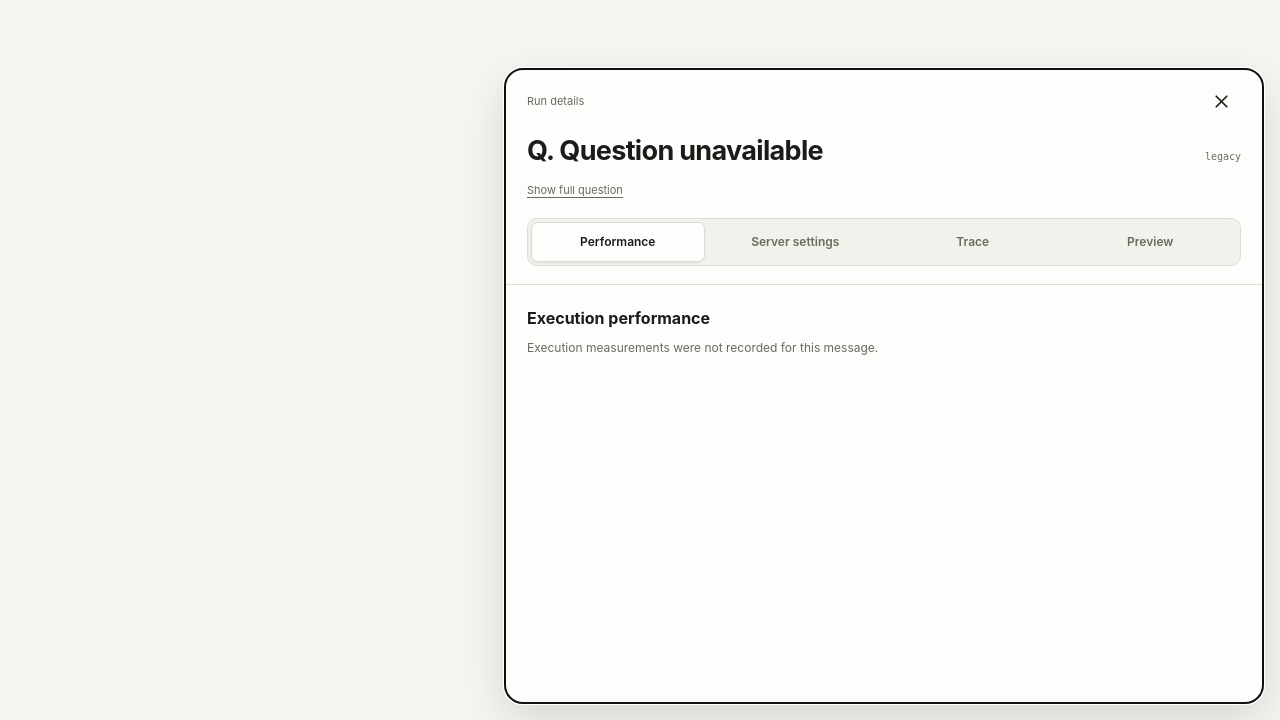
Test: Run details panel › keeps historical missing measurements, settings and traces explicit
Check: the heading "Q. Question unavailable" is shown, box [527, 134, 823, 167]
Check: the text "Execution measurements were not recorded for this message." is shown, box [527, 340, 878, 356]
Click the tab "Server settings" at (795,242), box [708, 222, 882, 262]
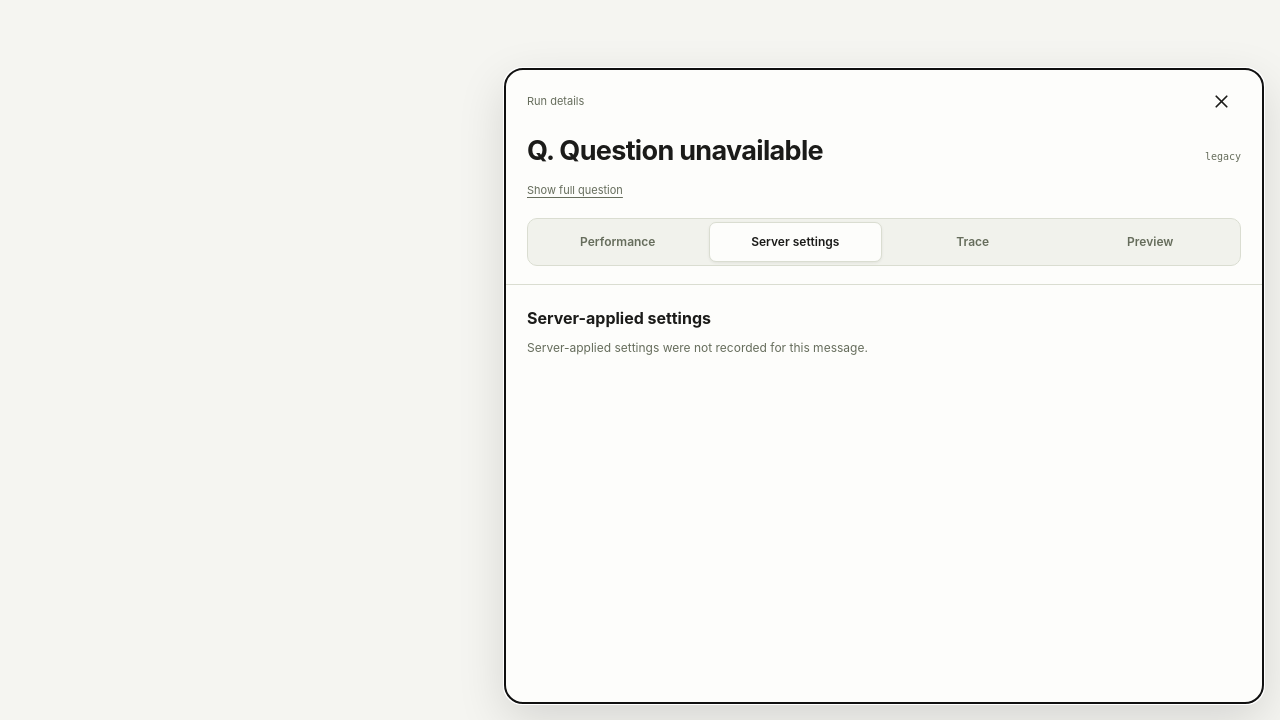
Check: the text "Server-applied settings were not recorded for this message." is shown, box [527, 340, 868, 356]
Click the tab "Trace" at (973,242), box [886, 222, 1060, 262]
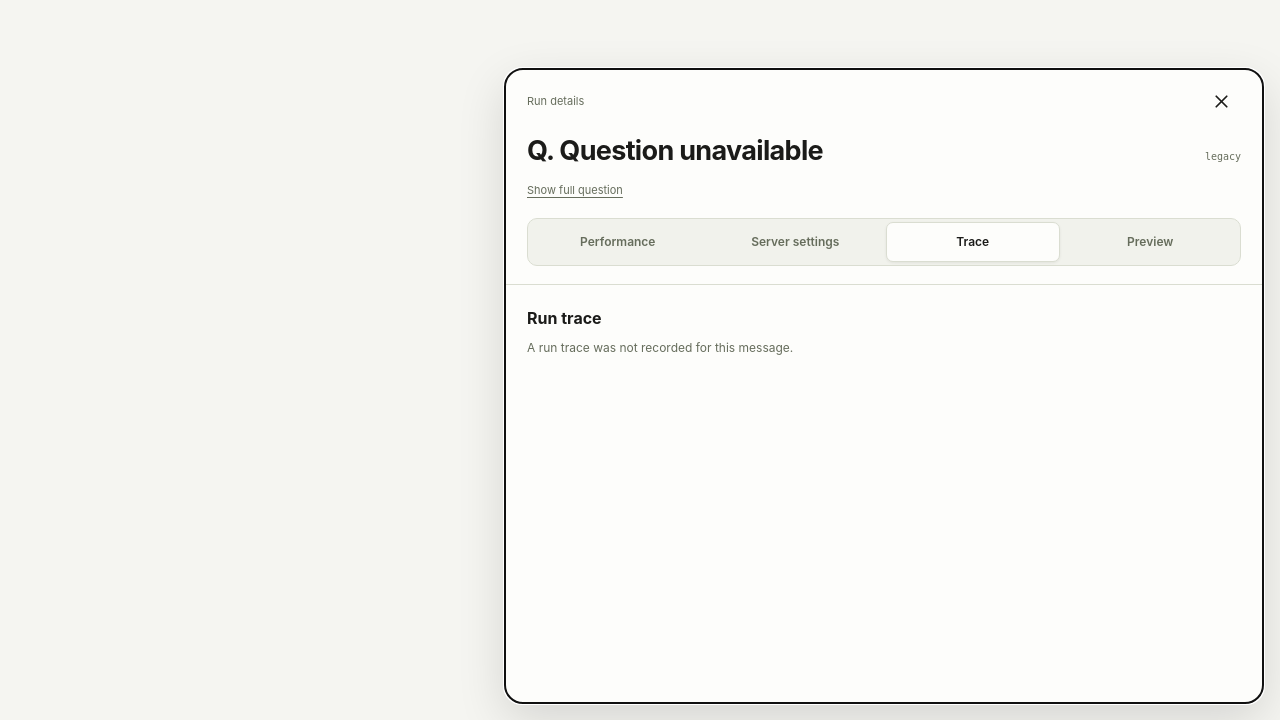
Check: the text "A run trace was not recorded for this message." is shown, box [527, 340, 793, 356]
